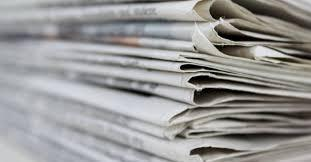Printing industry: (4, 2, 311, 162)
